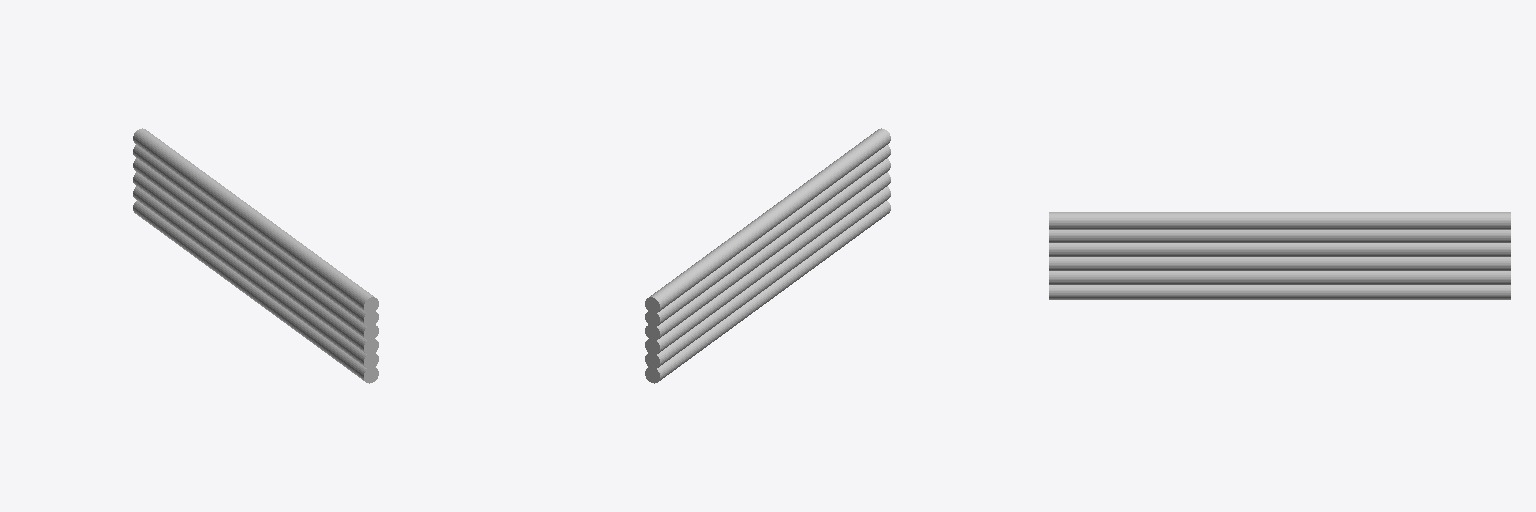
Rendered from wallPlain.obj.
3 views of the same model, side by side, from view 1: azimuth 30°, elevation 25°; view 2: azimuth 150°, elevation 25°; view 3: azimuth 270°, elevation 25° (orthographic).
Parts seen in each view (by area): view 1: Cylinder.001; view 2: Cylinder.001; view 3: Cylinder.001.
Boxes of the visible parts, <box> form: Cylinder.001: <box>133,128,378,383</box>; Cylinder.001: <box>645,128,890,383</box>; Cylinder.001: <box>1049,212,1510,299</box>.
Size of the model in its own units: 0.3789 by 2.02 by 9.86.